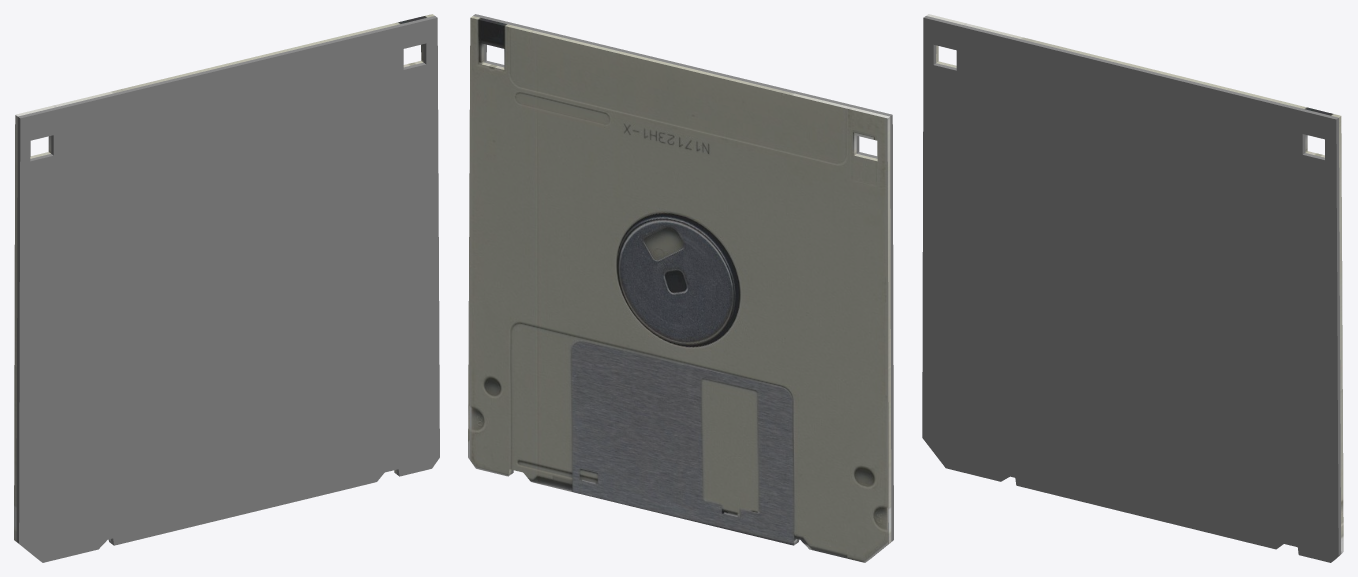
File: floppyDisk.FBX
The picture shows the model from 3 angles, left to right: view 1: azimuth 30°, elevation 25°; view 2: azimuth 150°, elevation 25°; view 3: azimuth 330°, elevation 25°; orthographic projection.
Parts seen in each view (by area): view 1: diskette; view 2: diskette; view 3: diskette.
Boxes of the visible parts, left/top/right/bottom form: diskette: left=14, top=14, right=439, bottom=562; diskette: left=468, top=14, right=893, bottom=562; diskette: left=922, top=14, right=1343, bottom=562.
Bounding box in the file's own units: 533 × 11.18 × 546.
Materials: 2 (1 with a texture image).
